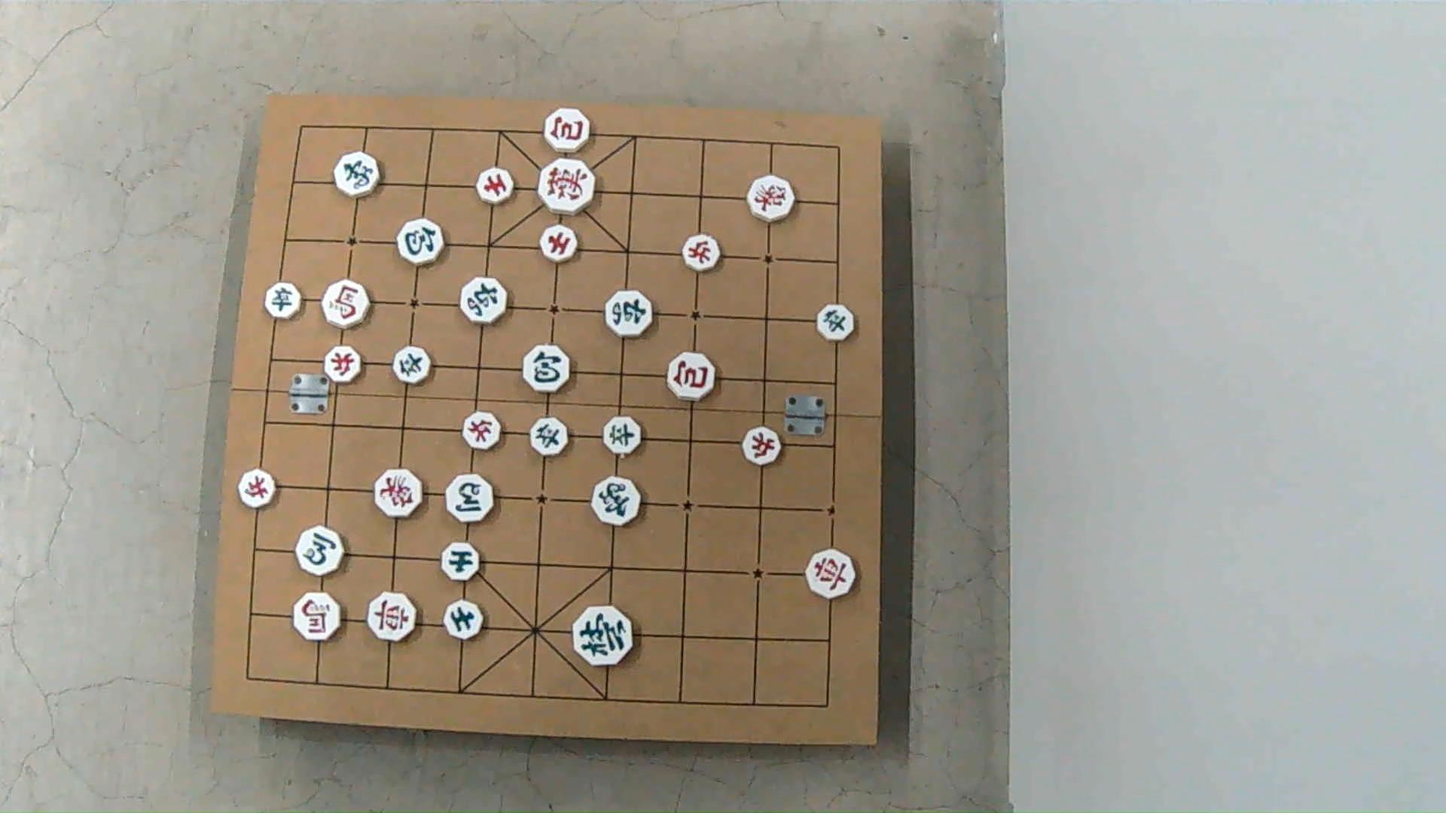cha_green: (606, 291, 654, 337), (462, 276, 508, 323)
cha_red: (804, 550, 854, 599), (368, 594, 417, 643)
jol_green: (532, 419, 570, 458), (606, 417, 644, 455), (393, 346, 430, 383), (264, 282, 300, 318), (817, 305, 854, 340)
jol_red: (463, 413, 502, 452), (239, 470, 276, 508), (746, 428, 784, 465), (684, 235, 721, 273), (325, 344, 362, 381)
ma_green: (295, 525, 345, 575), (447, 474, 493, 521)
ma_red: (321, 279, 371, 326), (293, 593, 340, 640)
po_green: (396, 218, 444, 265), (526, 345, 572, 391)
po_red: (670, 353, 718, 400), (543, 110, 589, 154)
sa_green: (446, 601, 485, 641), (443, 541, 480, 580)
sa_red: (539, 224, 578, 262), (477, 166, 513, 203)
sang_green: (593, 478, 642, 527), (334, 154, 378, 199)
sang_red: (377, 467, 424, 517), (746, 175, 796, 222)
wang_green: (576, 607, 636, 665)
wang_red: (538, 158, 595, 215)
